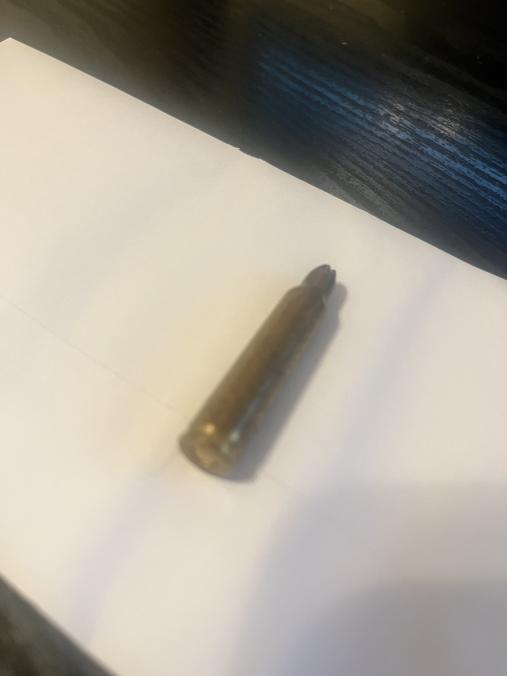556-unfired-blank: (177, 264, 339, 482)
